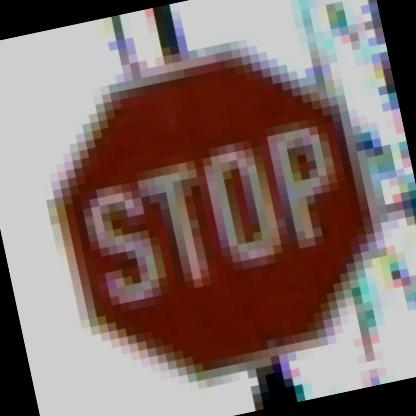stop: (10, 17, 394, 415)
